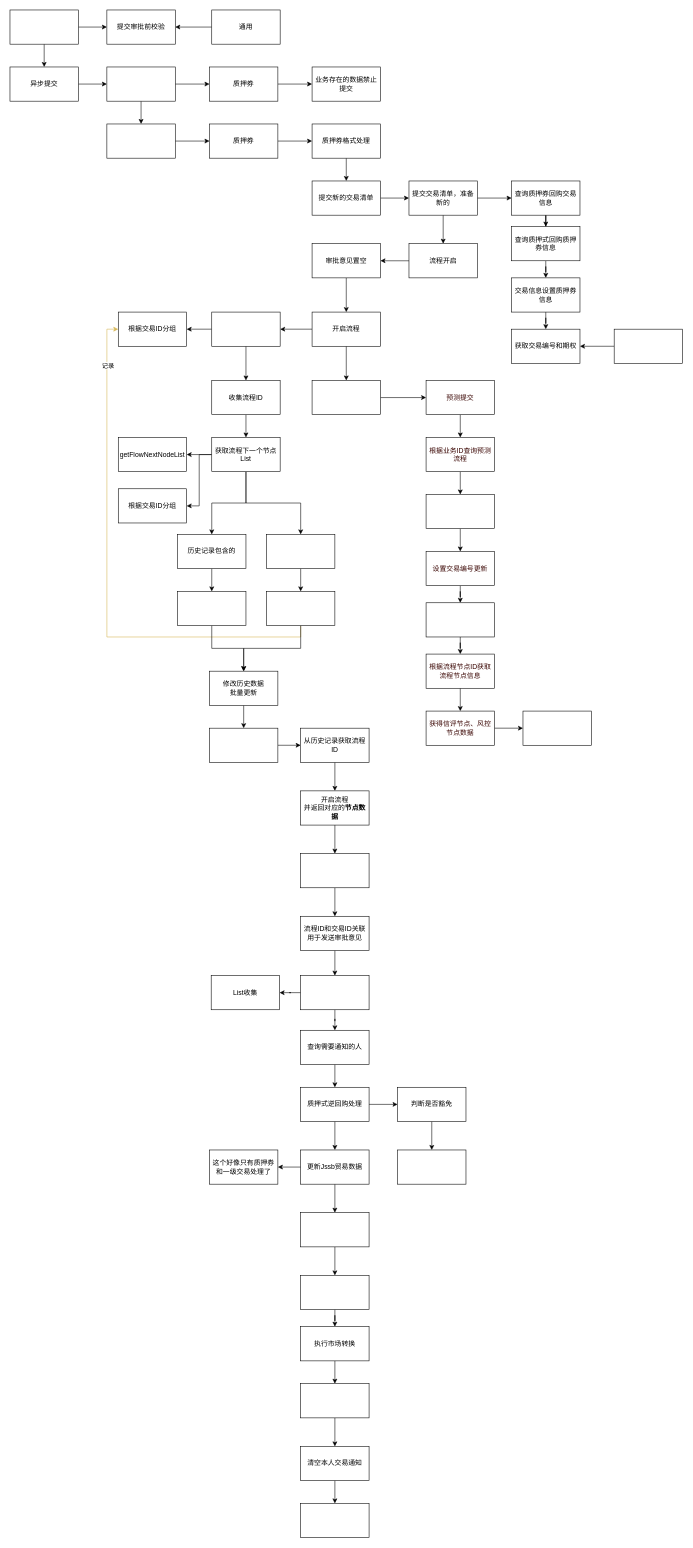
Image size: 693x1548. Some labels were removed from this diagram. Each missing label, with the box of its shape:
交易员打印标识重置: (300, 1212, 369, 1247)
入库: (266, 591, 335, 626)
历史记录不包含的: (266, 534, 335, 569)
发送代办事项: (177, 591, 246, 626)
发送通知: (300, 1383, 369, 1418)
审批类型已经封装到这里了: (614, 329, 683, 363)
封装流程服务所需的数据结构: (300, 975, 369, 1010)
提交: (300, 1503, 369, 1538)
提交审批——代办页: (9, 9, 78, 44)
更新流程- 交易关联表: (300, 853, 369, 888)
查询交易员、审批员预测流对象: (426, 494, 494, 529)
查询提交的交易流程历史表: (211, 312, 280, 346)
校验是否允许提交审批: (106, 66, 175, 101)
根据业务ID查询历史交易信息: (426, 602, 494, 637)
生成基础信息表-清空对应的基础数据: (300, 1275, 369, 1310)
类型分组: (106, 123, 175, 158)
节点数据过滤收集: (522, 711, 591, 745)
调整状态审批节点: (312, 380, 380, 415)
质押式回购审批数据保存: (397, 1149, 466, 1184)
遍历交易List: (209, 728, 278, 762)
